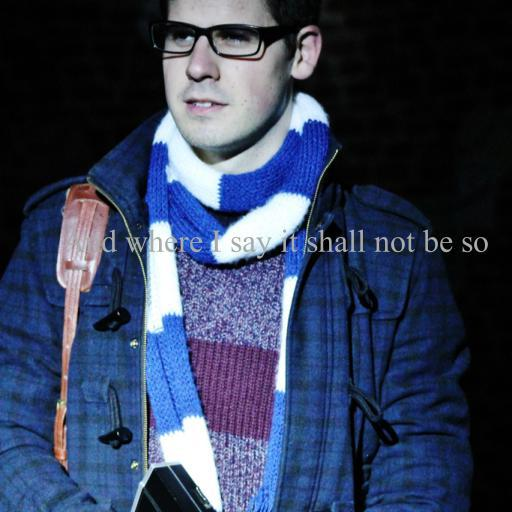Times New Roman: (61, 229, 489, 259)
